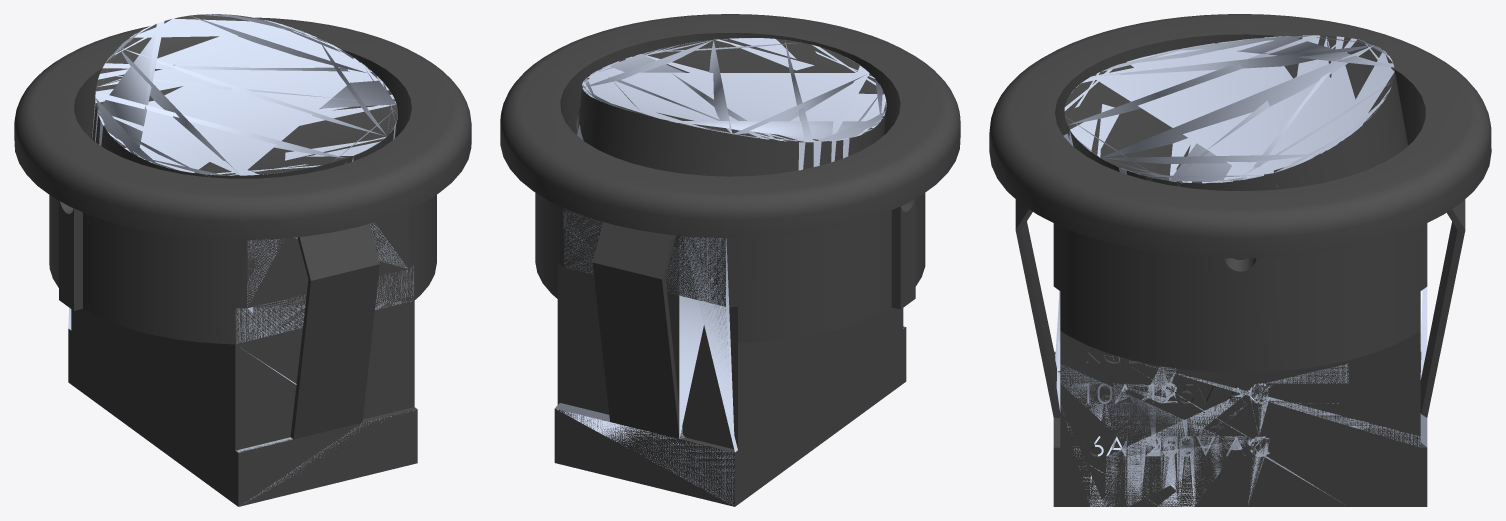
File: CLM_KCD1_1.dae
The picture shows the model from 3 angles, left to right: view 1: azimuth 30°, elevation 25°; view 2: azimuth 150°, elevation 25°; view 3: azimuth 270°, elevation 25°; orthographic projection. The views are drawn at different scales.
Visible parts, largest first — view 1: node0, node1; view 2: node0, node1; view 3: node0, node1.
Part boxes in pixels (x1,y1,x2,y2): node0: [14, 14, 471, 506]; node1: [68, 14, 416, 502]; node0: [500, 14, 960, 506]; node1: [555, 38, 904, 506]; node0: [989, 14, 1491, 506]; node1: [1054, 35, 1427, 506].
Bounding box in the file's own units: 0.023 × 0.0196 × 0.023.
